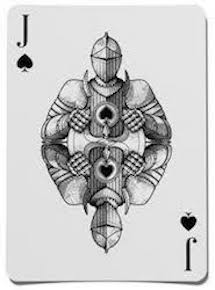JackOfSpades: (4, 1, 211, 287)
